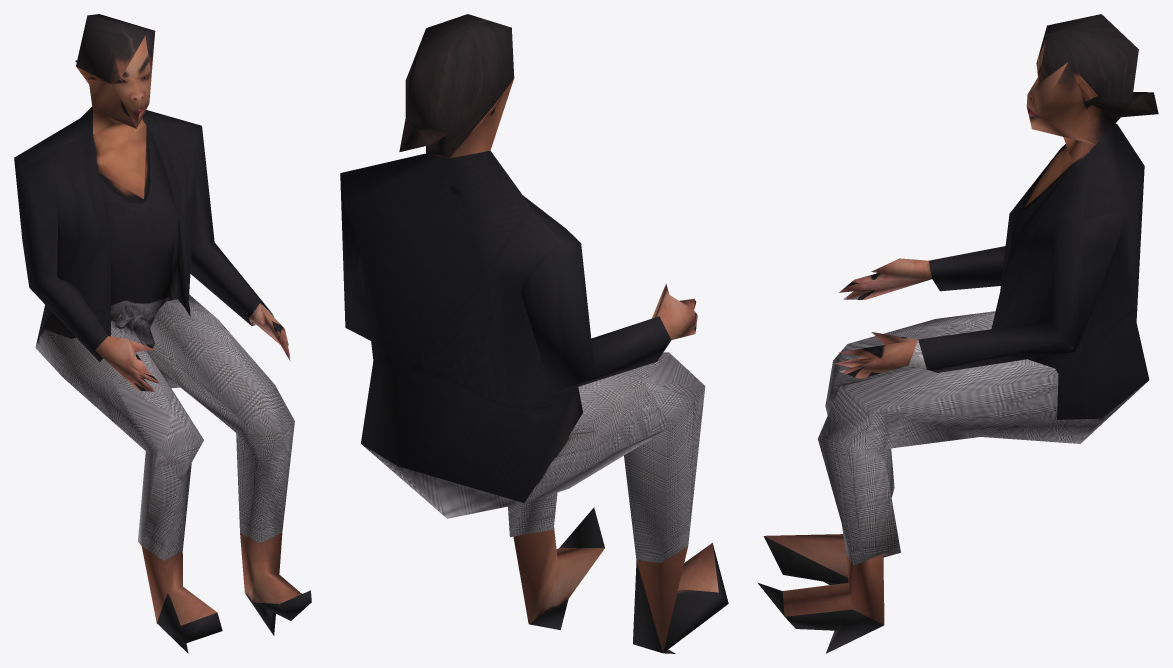
File: CarlaFar.fbx
The picture shows the model from 3 angles, left to right: view 1: azimuth 30°, elevation 25°; view 2: azimuth 150°, elevation 25°; view 3: azimuth 270°, elevation 25°; orthographic projection. The views are drawn at different scales.
Visible parts, largest first — view 1: rp_carla_rigged_001_geo.001; view 2: rp_carla_rigged_001_geo.001; view 3: rp_carla_rigged_001_geo.001.
Boxes of the visible parts, x1,y1,x2,y2 form: rp_carla_rigged_001_geo.001: [14, 14, 311, 653]; rp_carla_rigged_001_geo.001: [340, 14, 728, 653]; rp_carla_rigged_001_geo.001: [757, 14, 1158, 653].
Size of the model in its own units: 44.98 by 128 by 76.95.
Materials: 1 (1 with a texture image).
